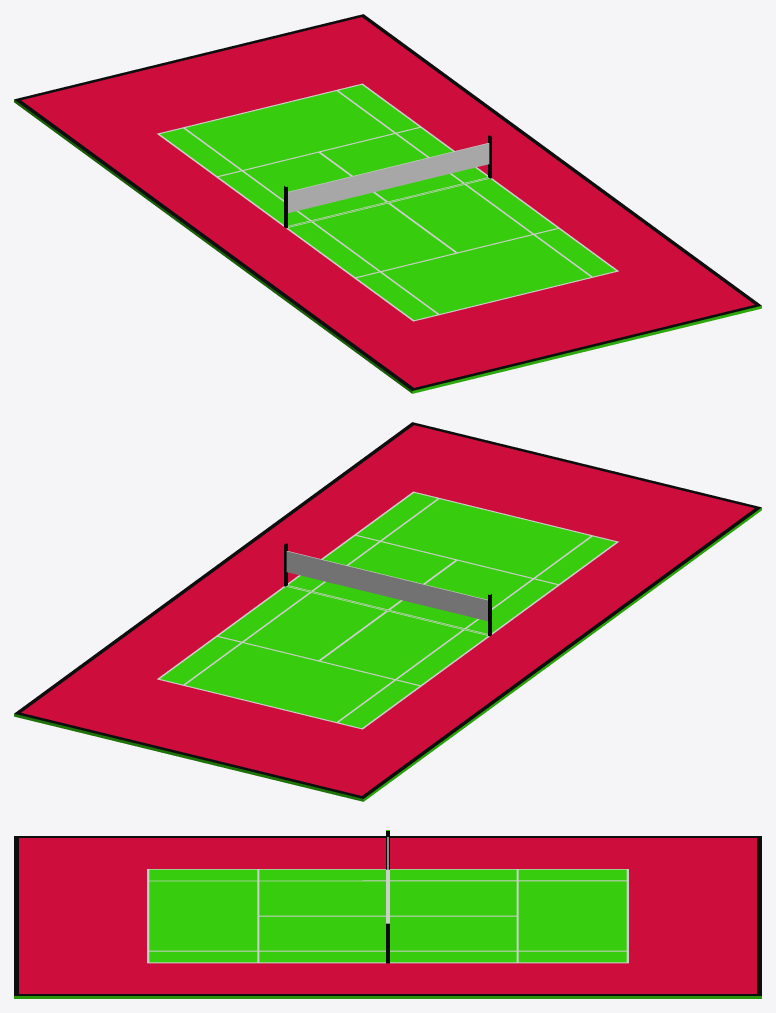
File: 网球场.fbx
3 views of the same model, one above another, from view 1: azimuth 30°, elevation 25°; view 2: azimuth 150°, elevation 25°; view 3: azimuth 270°, elevation 25° (orthographic). The views are drawn at different scales.
Parts seen in each view (by area): view 1: Cube; view 2: Cube; view 3: Cube.
Part boxes in pixels (x1=…): Cube: x1=14, y1=14, x2=761, y2=393; Cube: x1=14, y1=422, x2=761, y2=801; Cube: x1=14, y1=830, x2=761, y2=998.
Size of the model in its own units: 18.71 by 2.26 by 36.92.
